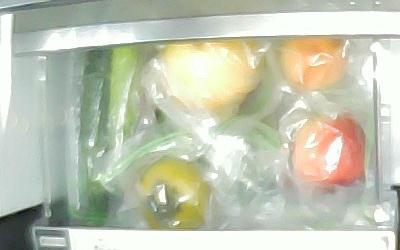apple_vinyl: (293, 116, 365, 193)
cucumber_vinyl: (80, 48, 113, 228), (108, 45, 147, 152)
grapefruit_vinyl: (161, 39, 258, 108)
peach_vinyl: (278, 38, 347, 89)
persimmon_vinyl: (138, 158, 211, 228)
